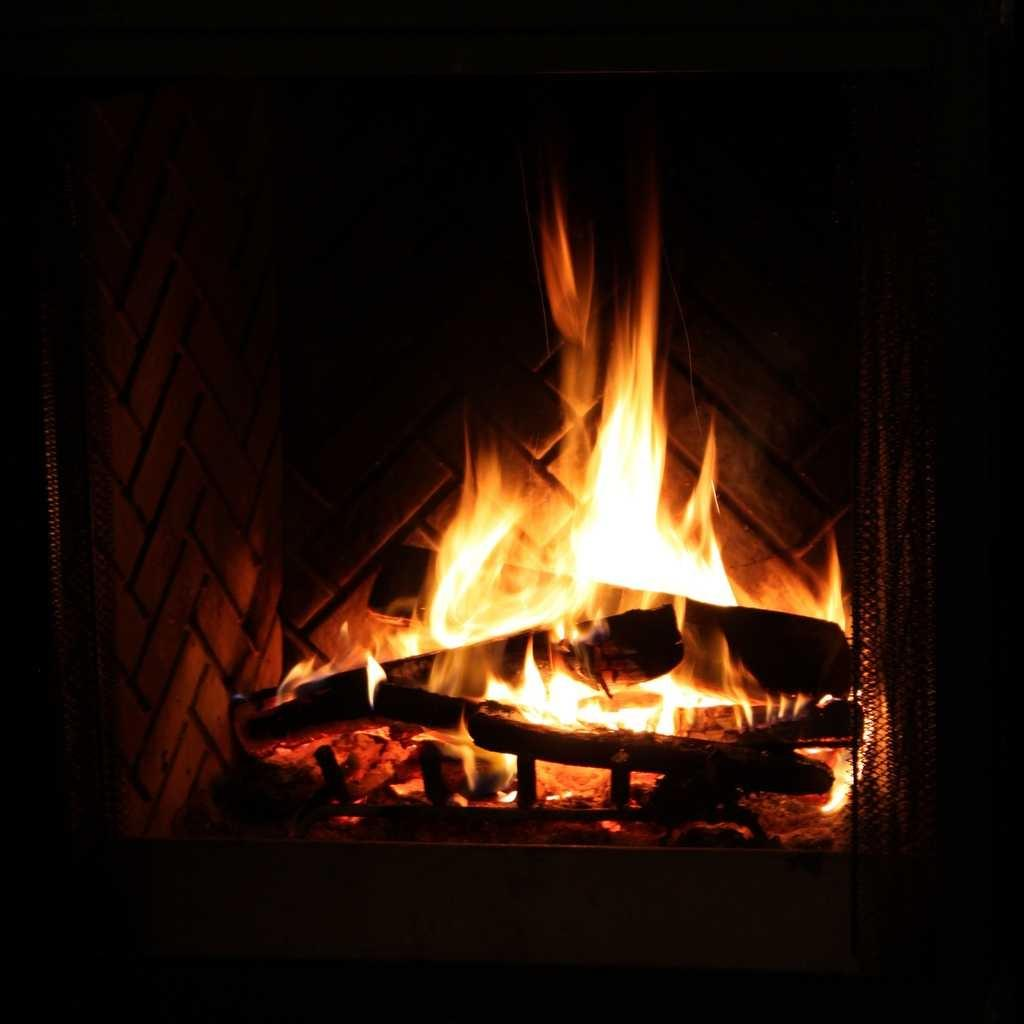fire: (440, 518, 542, 652), (595, 408, 672, 570)
